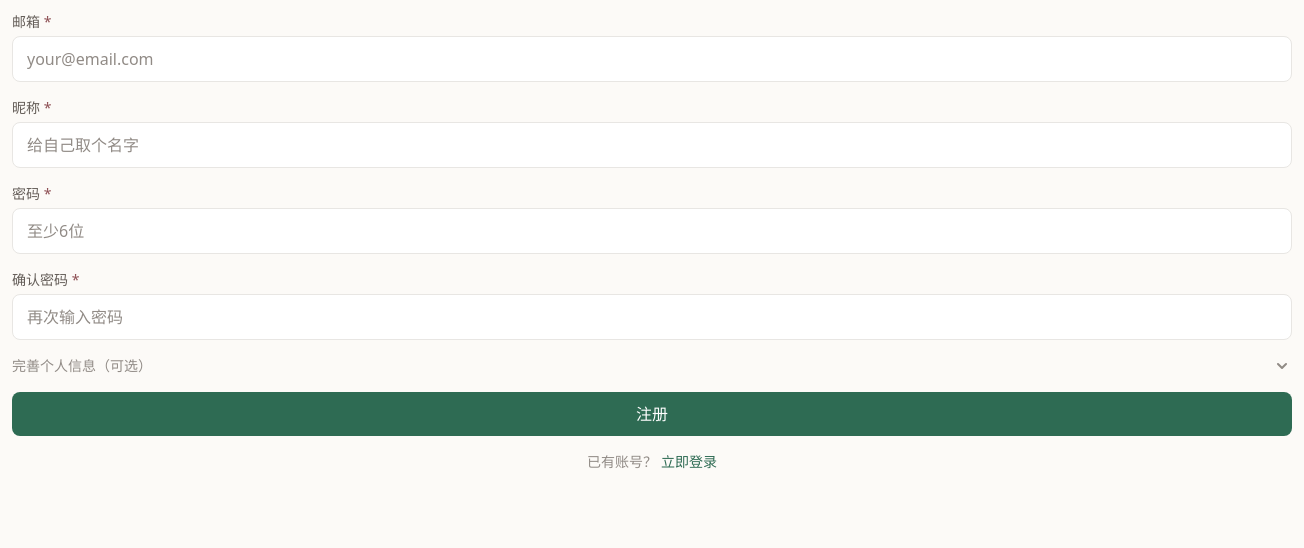
Test case: RegisterForm › shows error when password is too short
Type "test@test.com" into the field labelled "邮箱 *" at (652, 59), box [12,36,1292,82]
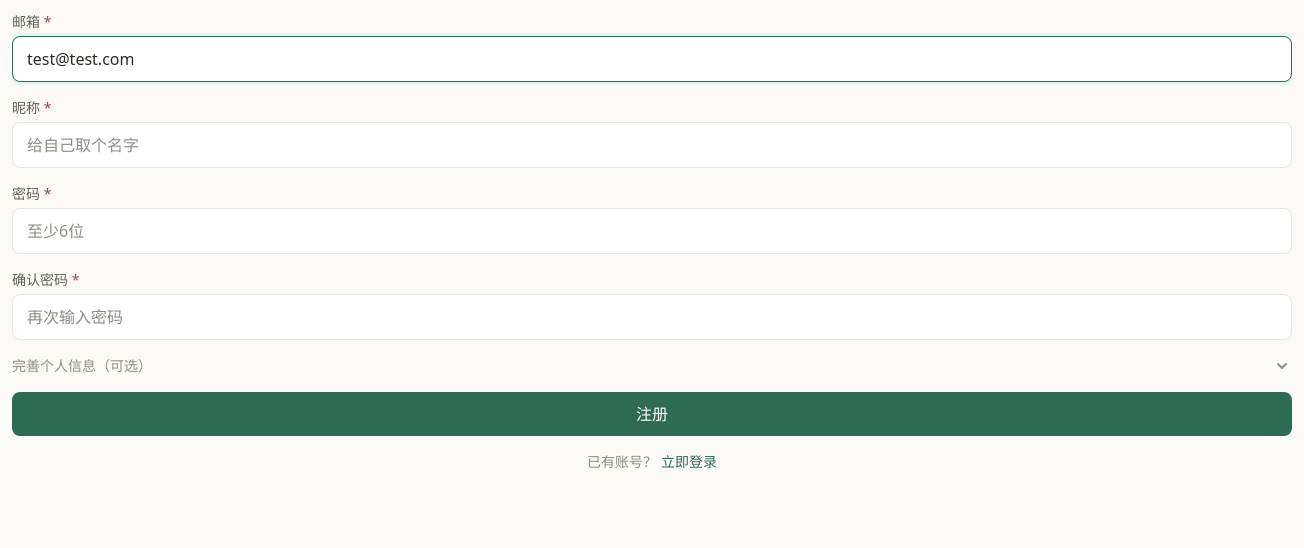
Type "测试用户" into the field labelled "昵称 *" at (652, 145), box [12,122,1292,168]
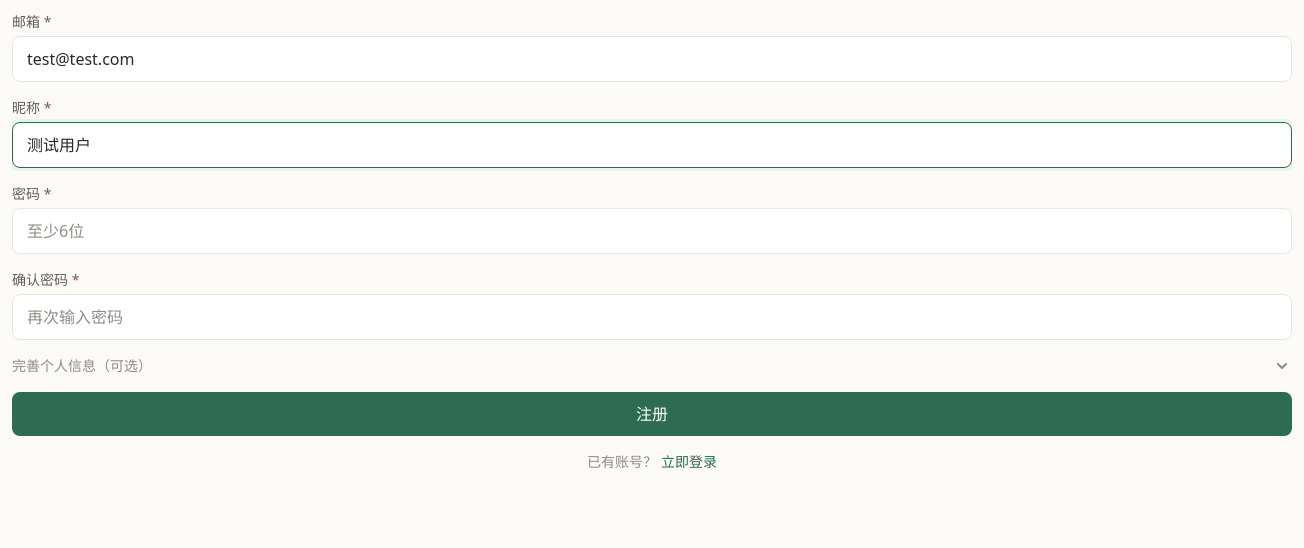
Type "123" into the password field with placeholder "至少6位" at (652, 231), box [12,208,1292,254]
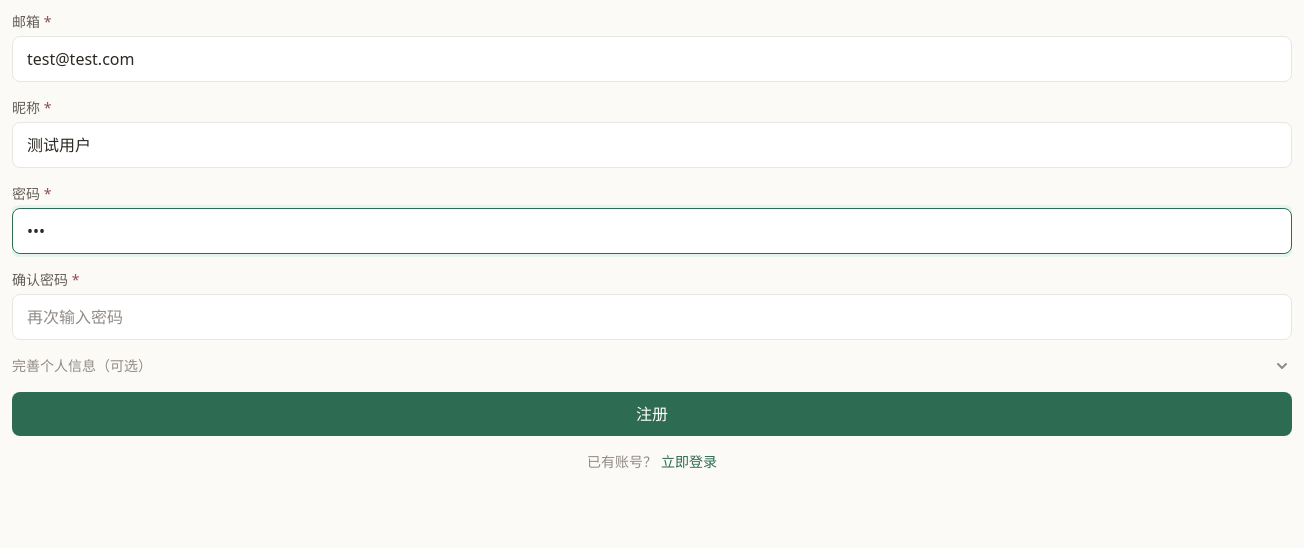
Type "123" into the password field with placeholder "再次输入密码" at (652, 317), box [12,294,1292,340]
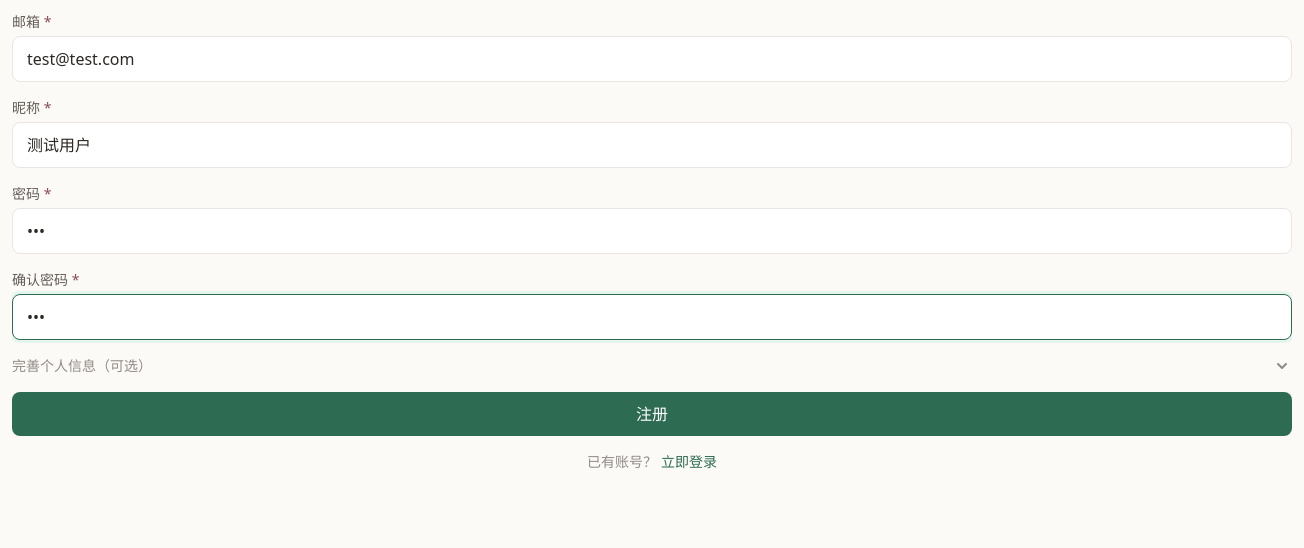
Click the button "注册" at (652, 414), box [12,392,1292,436]
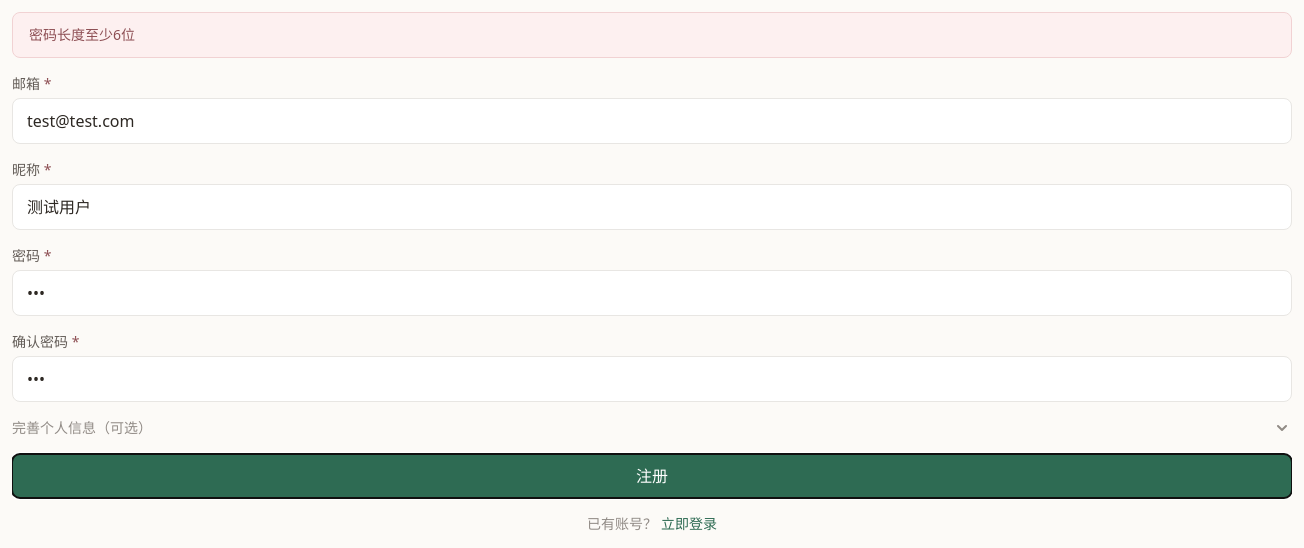
Now the text "密码长度至少6位" is shown, box [12,12,1292,58]
